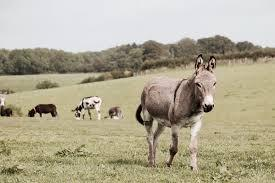Non_Gorille: (27, 57, 237, 177)
